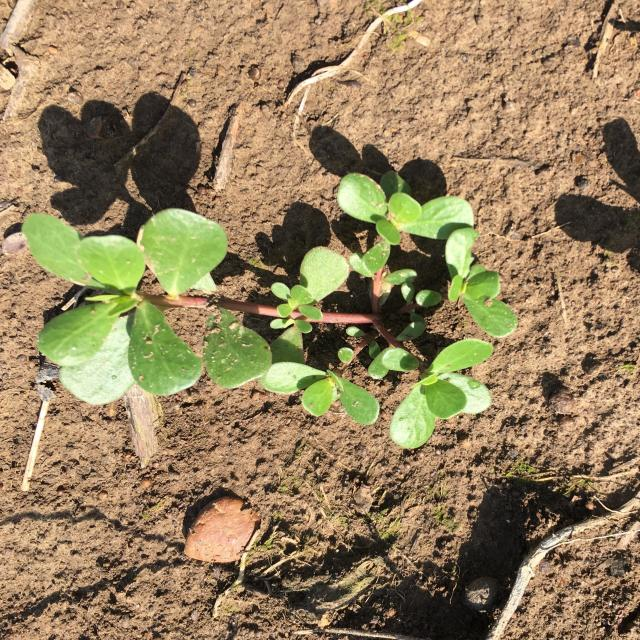Purslane: (22, 171, 518, 448)
